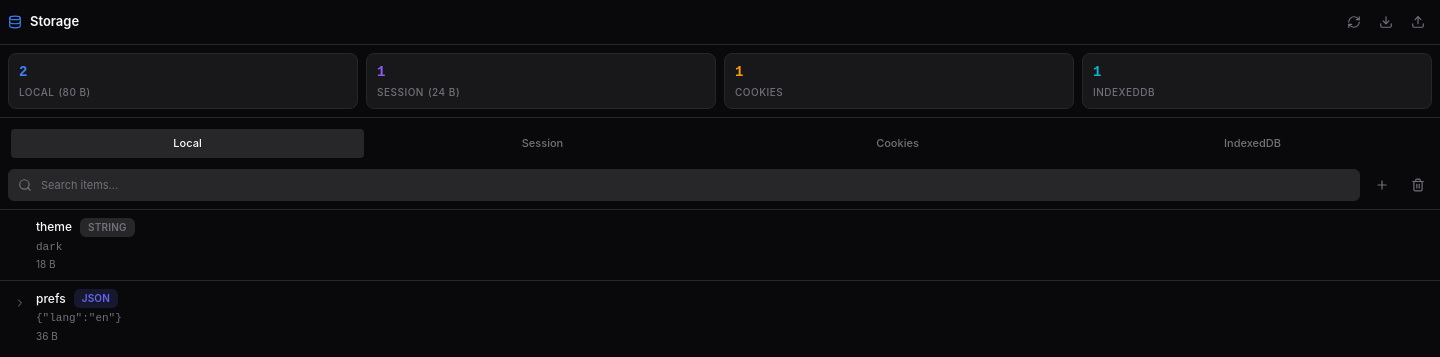
Test: StorageTab › filters items by key or value
Expected: the text "theme" is shown, [36, 218, 72, 236]
Type "DARK" into the field with placeholder "Search items...".
click(684, 184); type("DARK")  # box [8, 168, 1360, 200]
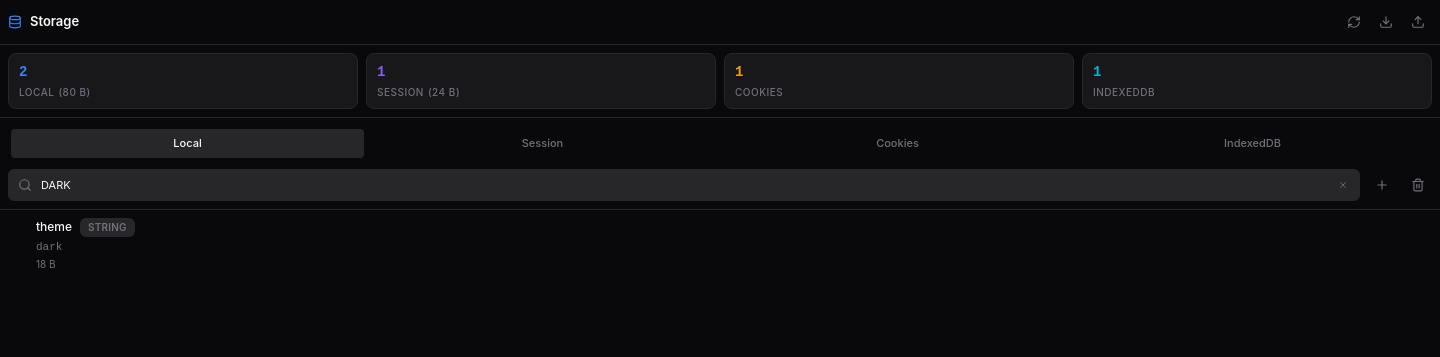
Expected: the text "theme" is shown, [36, 218, 72, 236]
Result: the text "prefs" is gone
